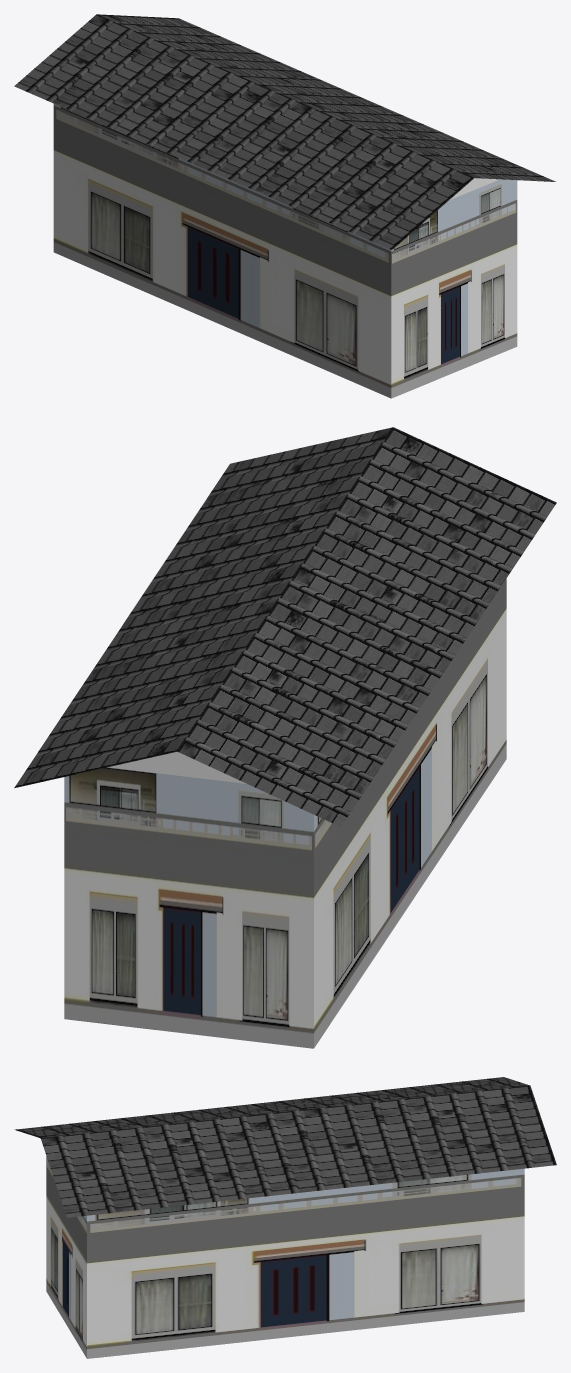
3 renders of one model, top to bottom at view 1: azimuth 30°, elevation 25°; view 2: azimuth 150°, elevation 25°; view 3: azimuth 270°, elevation 25°, orthographic. The views are drawn at different scales.
Parts seen in each view (by area): view 1: CityEngineMaterial_7_m, CityEngineMaterial_8_m; view 2: CityEngineMaterial_8_m, CityEngineMaterial_7_m, CityEngineMaterial_3_m; view 3: CityEngineMaterial_7_m, CityEngineMaterial_8_m.
Boxes of the visible parts, x1,y1,x2,y2 form: CityEngineMaterial_7_m: (53,104,517,398); CityEngineMaterial_8_m: (14,14,555,249); CityEngineMaterial_8_m: (14,427,556,826); CityEngineMaterial_7_m: (64,578,506,1048); CityEngineMaterial_3_m: (108,751,246,783); CityEngineMaterial_7_m: (46,1156,524,1358); CityEngineMaterial_8_m: (14,1077,556,1217).
Size of the model in its own units: 12.32 by 7.74 by 20.07.
